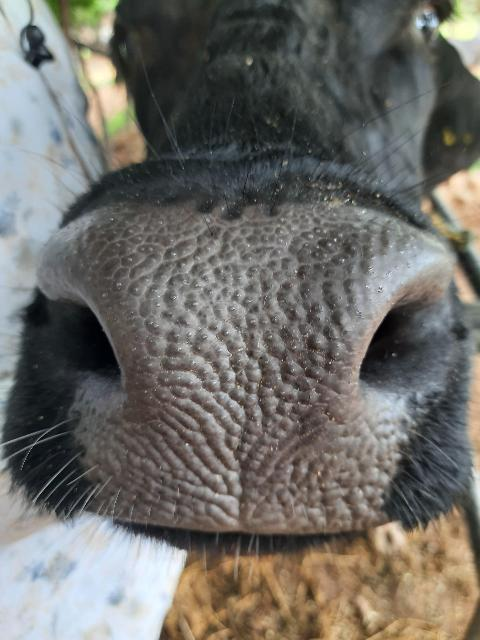Muzzle: (100, 230, 362, 518)
